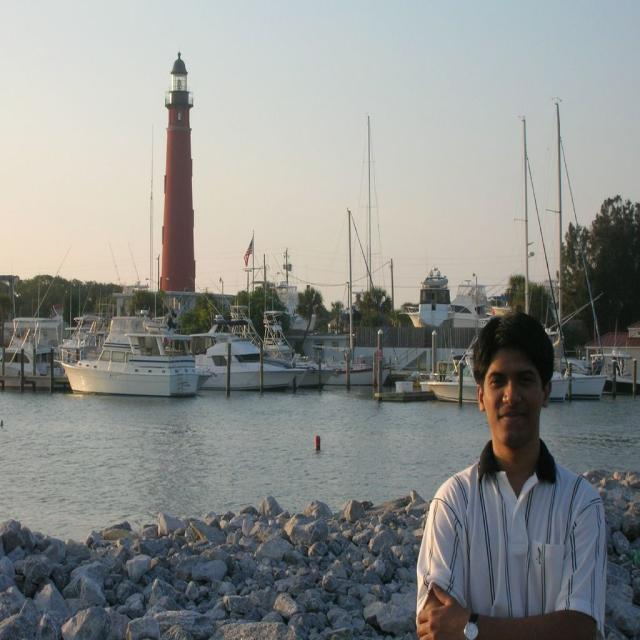Boat: (60, 308, 218, 397), (192, 338, 305, 390), (0, 340, 48, 387), (431, 372, 479, 402)
